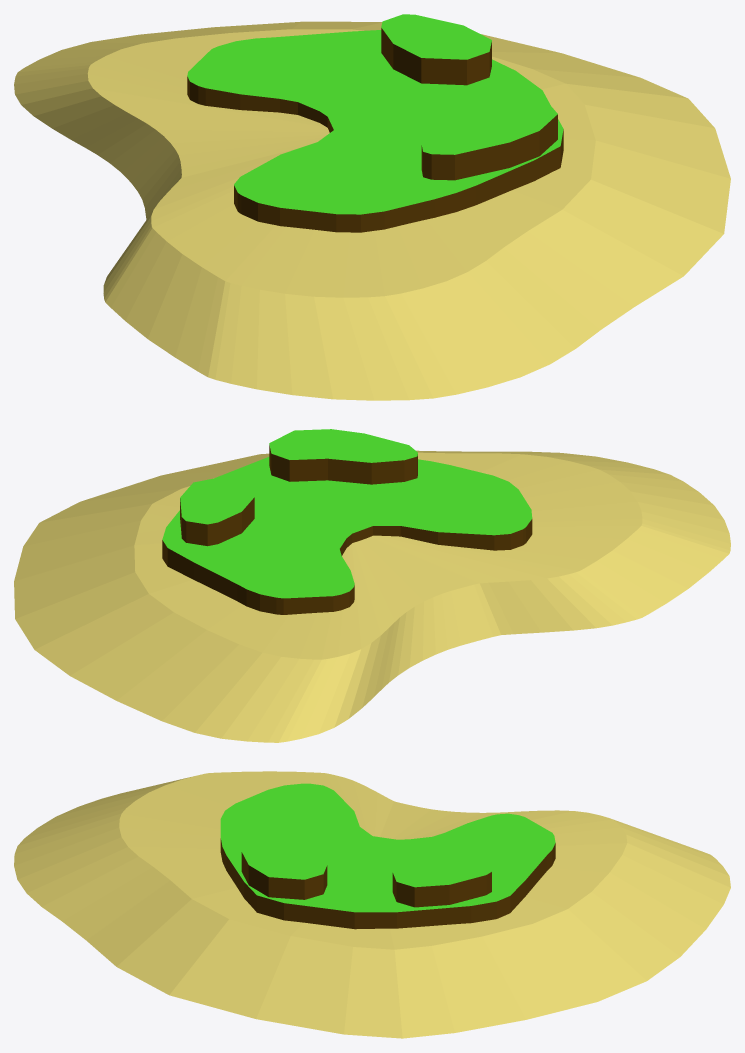
The model's file is island.glb.
The picture shows the model from 3 angles, top to bottom: view 1: azimuth 30°, elevation 25°; view 2: azimuth 150°, elevation 25°; view 3: azimuth 270°, elevation 25°; orthographic projection. The views are drawn at different scales.
Parts seen in each view (by area): view 1: Plane, World, Cliff.001, Cliff; view 2: Plane, World, Cliff.001, Cliff; view 3: Plane, World, Cliff.001, Cliff.
Boxes of the visible parts, x1,y1,x2,y2 form: Plane: (14,21,730,400); World: (187,30,563,232); Cliff.001: (421,90,557,180); Cliff: (381,14,491,85); Plane: (14,450,730,742); World: (162,457,532,614); Cliff.001: (269,429,417,484); Cliff: (180,478,254,546); Plane: (14,771,730,1038); World: (220,783,555,929); Cliff.001: (241,823,327,899); Cliff: (392,857,491,907).
Bounding box in the file's own units: 196 × 28.4 × 235.
